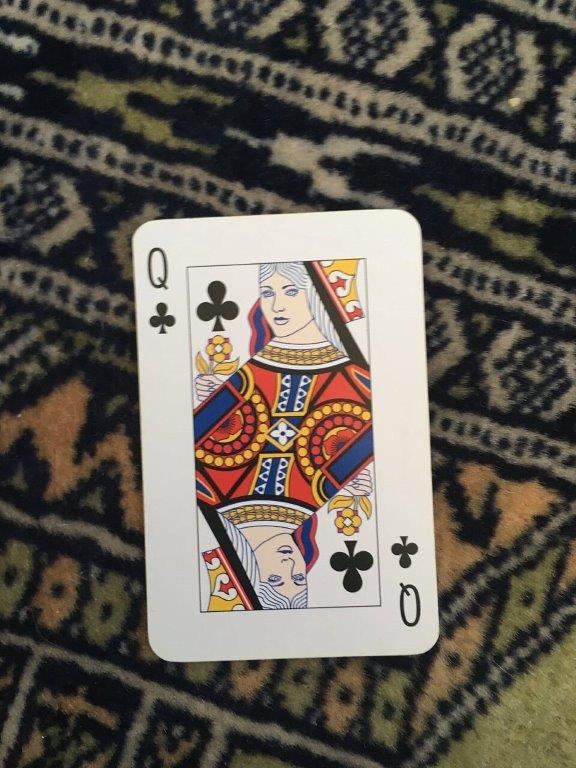QC: (128, 206, 443, 665)
